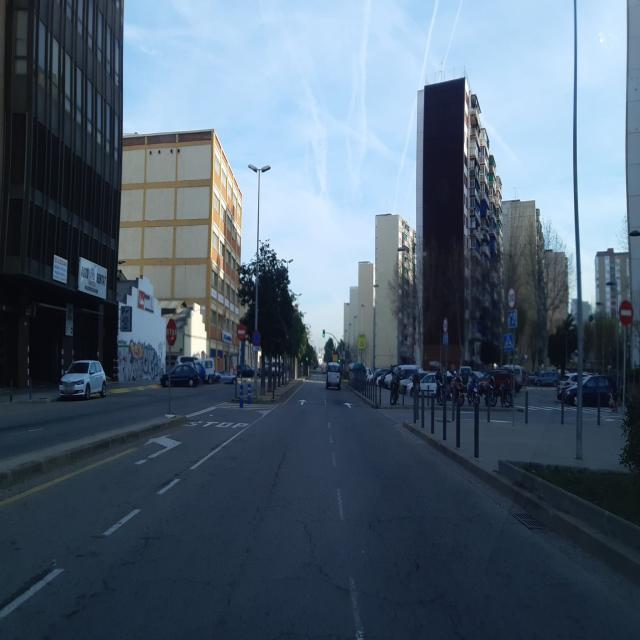forb_stopping: (252, 330, 262, 348)
